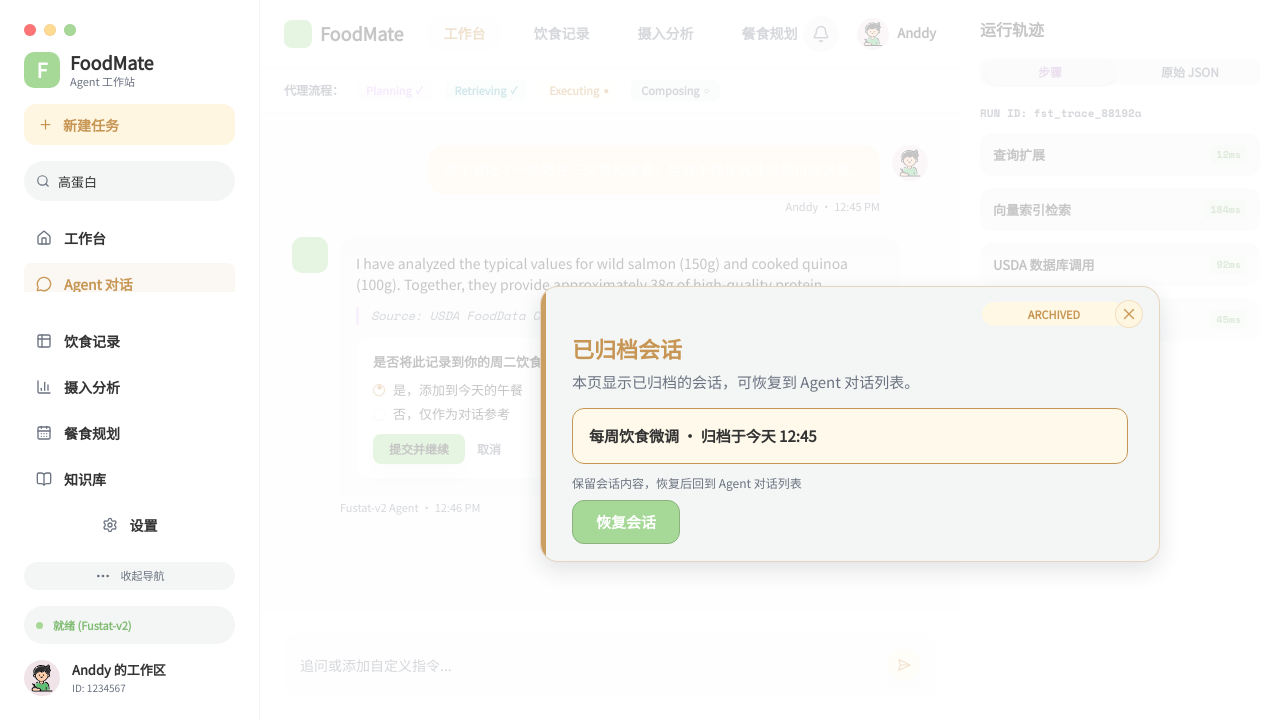
Test: ChatPage Figma session operation fixtures › renders archived as a modal result over the Figma conversation
The image size is (1280, 720).
Expected: the dialog "已归档会话" is shown, [540,286,1160,562]
Expected: the button "恢复会话" is shown, [572,500,680,544]
Click the button named "关闭归档结果".
click(1129, 314)  # box [1115,300,1143,328]
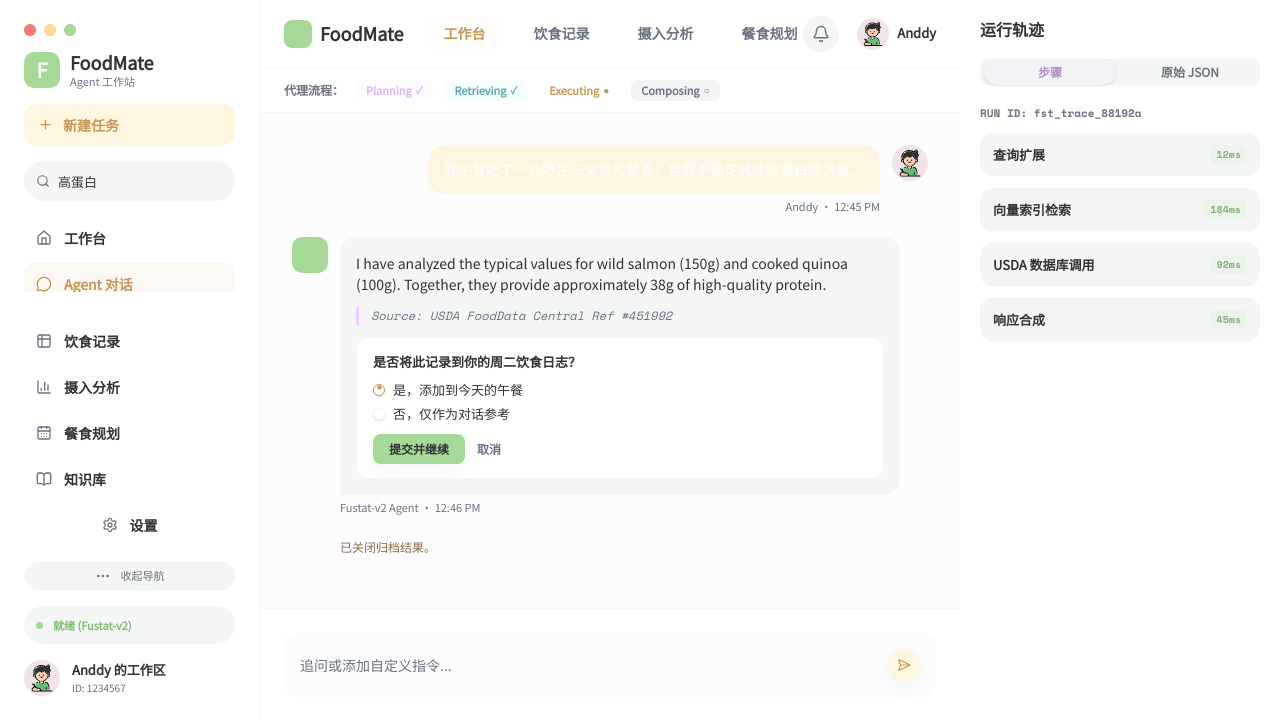
Now the heading "已归档会话" is gone
Now the message reads "已关闭归档结果。", box [340,538,436,555]
